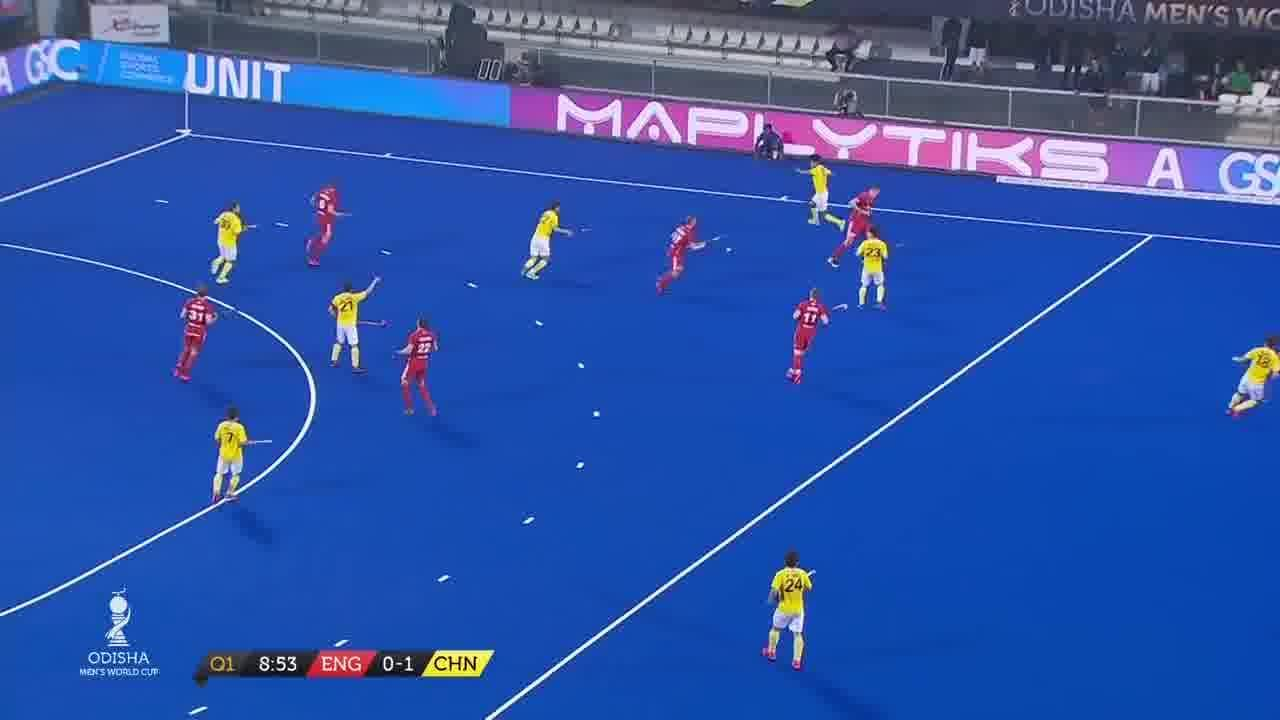ball: (727, 246, 735, 253)
